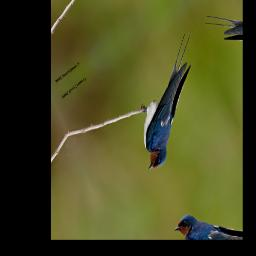Swallow: (114, 30, 225, 175)
